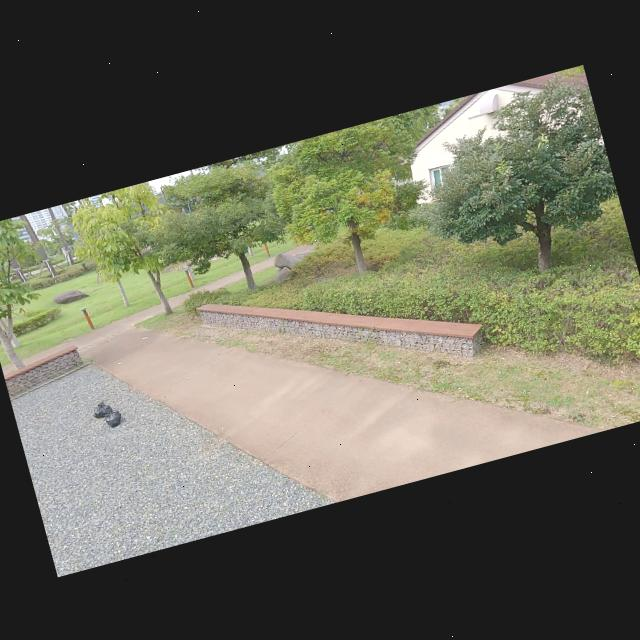trash: (102, 404, 123, 426), (90, 398, 112, 419)
